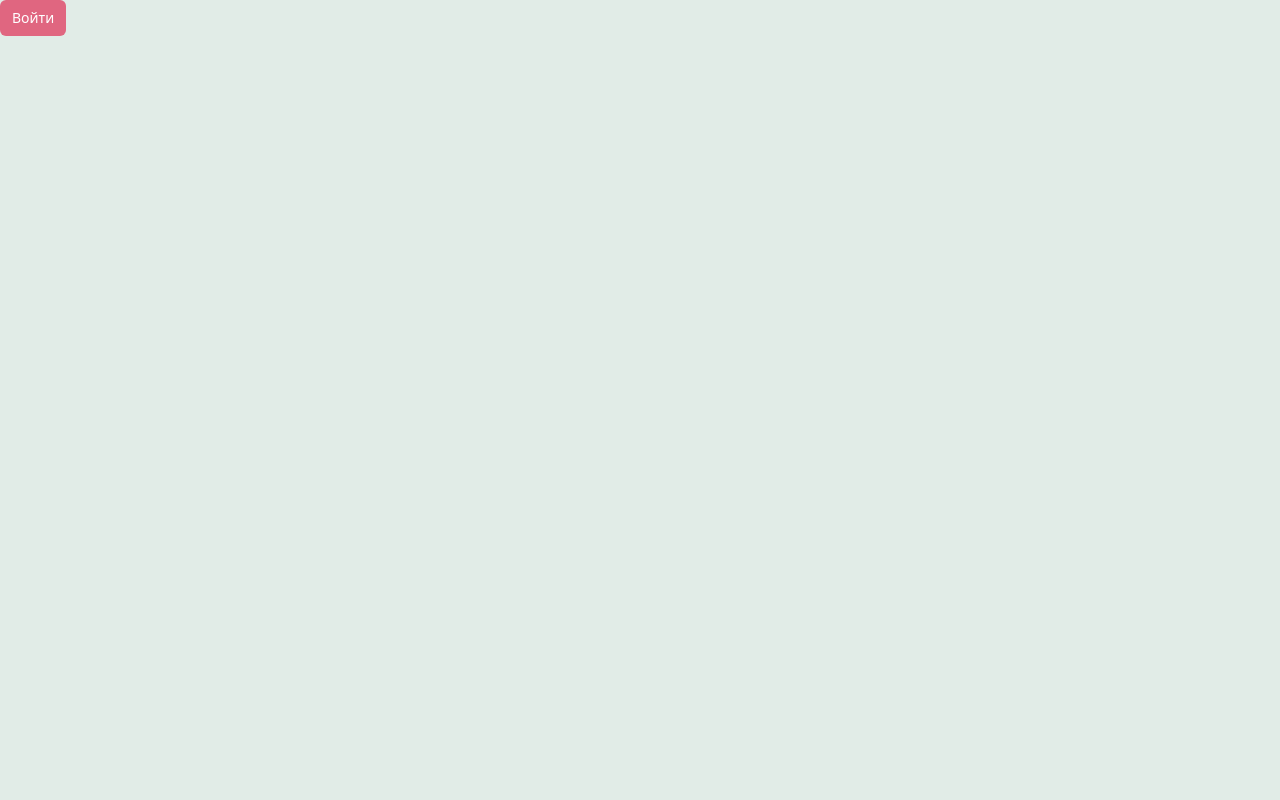
Test: Форма входа › вызывает POST /api/auth с корректными данными формы
Later steps or results of the test are not shown.
What coordinates should you click on to do the following:
click the button "Войти"
I would click on:
 (33, 18)
Its box is [0,0,66,36].
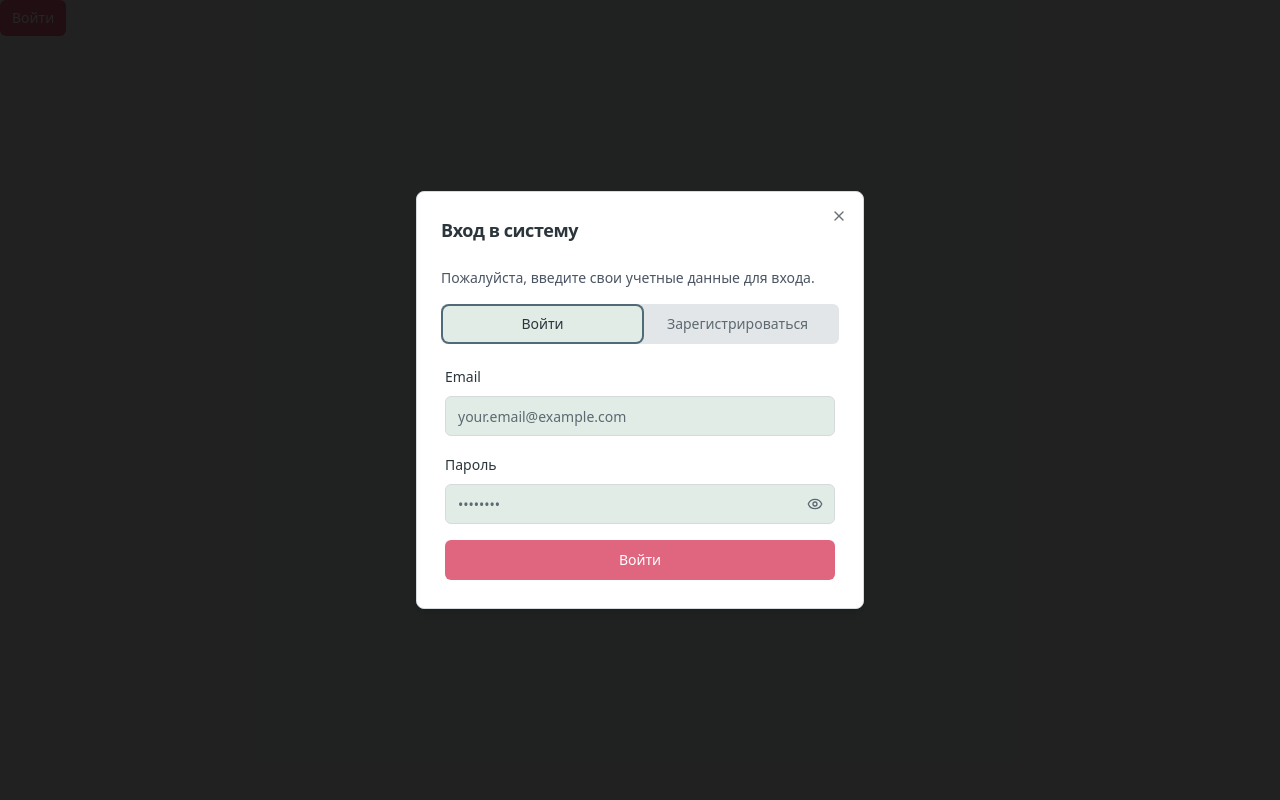
Expected: the heading "Вход в систему" is shown, [441,218,578,242]
